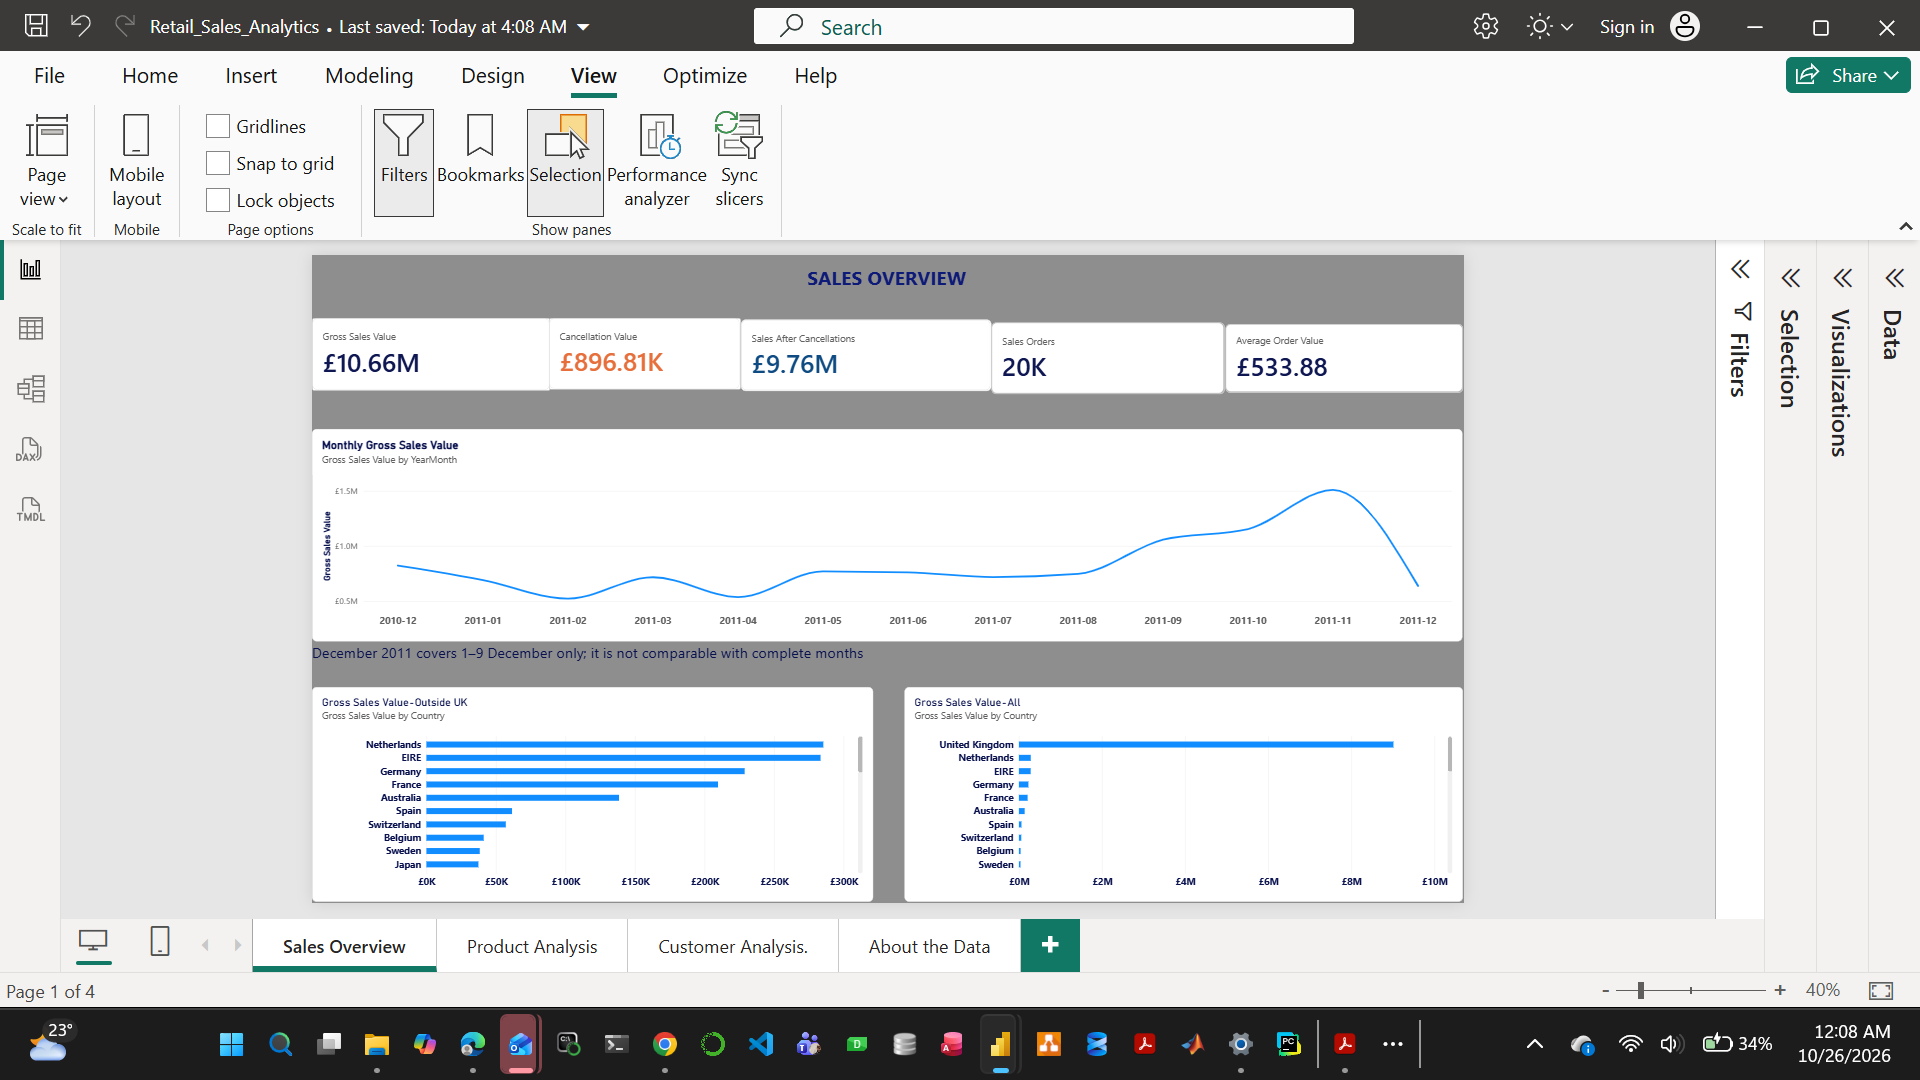

This screenshot's page, from the dashboard's own definition file:
{"tool":"powerbi","page":{"name":"Sales Overview","canvas":[1920,1080],"ordinal":0},"visuals":[{"type":"clusteredBarChart","title":"Gross Sales Value-All","fields":{"Category":["Retail_Analysis.Country"],"Y":["Retail_Analysis.Gross Sales Value"]},"box":[987.8,720.5,930.5,357.9],"z":0},{"type":"clusteredBarChart","title":"Gross Sales Value-Outside UK","fields":{"Category":["Retail_Analysis.Country"],"Y":["Retail_Analysis.Gross Sales Value"]},"box":[0,720.5,935.3,357.9],"z":1000},{"type":"lineChart","title":"Monthly Gross Sales Value","fields":{"Category":["Calendar.YearMonth"],"Y":["Retail_Analysis.Gross Sales Value"]},"box":[0,290.4,1917.6,353.7],"z":2000},{"type":"textbox","box":[0,644.2,1917.6,93.1],"z":3000},{"type":"textbox","box":[0,39,190,342],"z":4000},{"type":"textbox","box":[93.7,13.8,1585.5,151.7],"z":5000},{"type":"cardVisual","fields":{"Data":["Retail_Analysis.Gross Sales Value"]},"box":[0,104.8,397.1,121.3],"z":6000},{"type":"cardVisual","fields":{"Data":["Retail_Analysis.Cancellation Value"]},"box":[396.1,105,319.7,119.3],"z":7000},{"type":"cardVisual","fields":{"Data":["Retail_Analysis.Sales After Cancellations"]},"box":[715.8,107.4,417.5,119.3],"z":8000},{"type":"cardVisual","fields":{"Data":["Retail_Analysis.Sales Orders"]},"box":[1133.3,112.1,388.9,119.3],"z":9000},{"type":"cardVisual","fields":{"Data":["Retail_Analysis.Average Order Value"]},"box":[1522.2,114.5,396.1,114.5],"z":10000}]}

Visuals, with their boxes on the page's 1920x1080 design canvas (x1, y1, x2, y2). These are canvas units, not pixel positions in the 1920x1080 screenshot, which may show the page scaled, cropped or inside an application window:
"Gross Sales Value-All" clusteredBarChart: [988, 720, 1918, 1078]
"Gross Sales Value-Outside UK" clusteredBarChart: [0, 720, 935, 1078]
"Monthly Gross Sales Value" lineChart: [0, 290, 1918, 644]
textbox: [0, 644, 1918, 737]
textbox: [0, 39, 190, 381]
textbox: [94, 14, 1679, 166]
cardVisual - Retail_Analysis.Gross Sales Value: [0, 105, 397, 226]
cardVisual - Retail_Analysis.Cancellation Value: [396, 105, 716, 224]
cardVisual - Retail_Analysis.Sales After Cancellations: [716, 107, 1133, 227]
cardVisual - Retail_Analysis.Sales Orders: [1133, 112, 1522, 231]
cardVisual - Retail_Analysis.Average Order Value: [1522, 114, 1918, 229]
